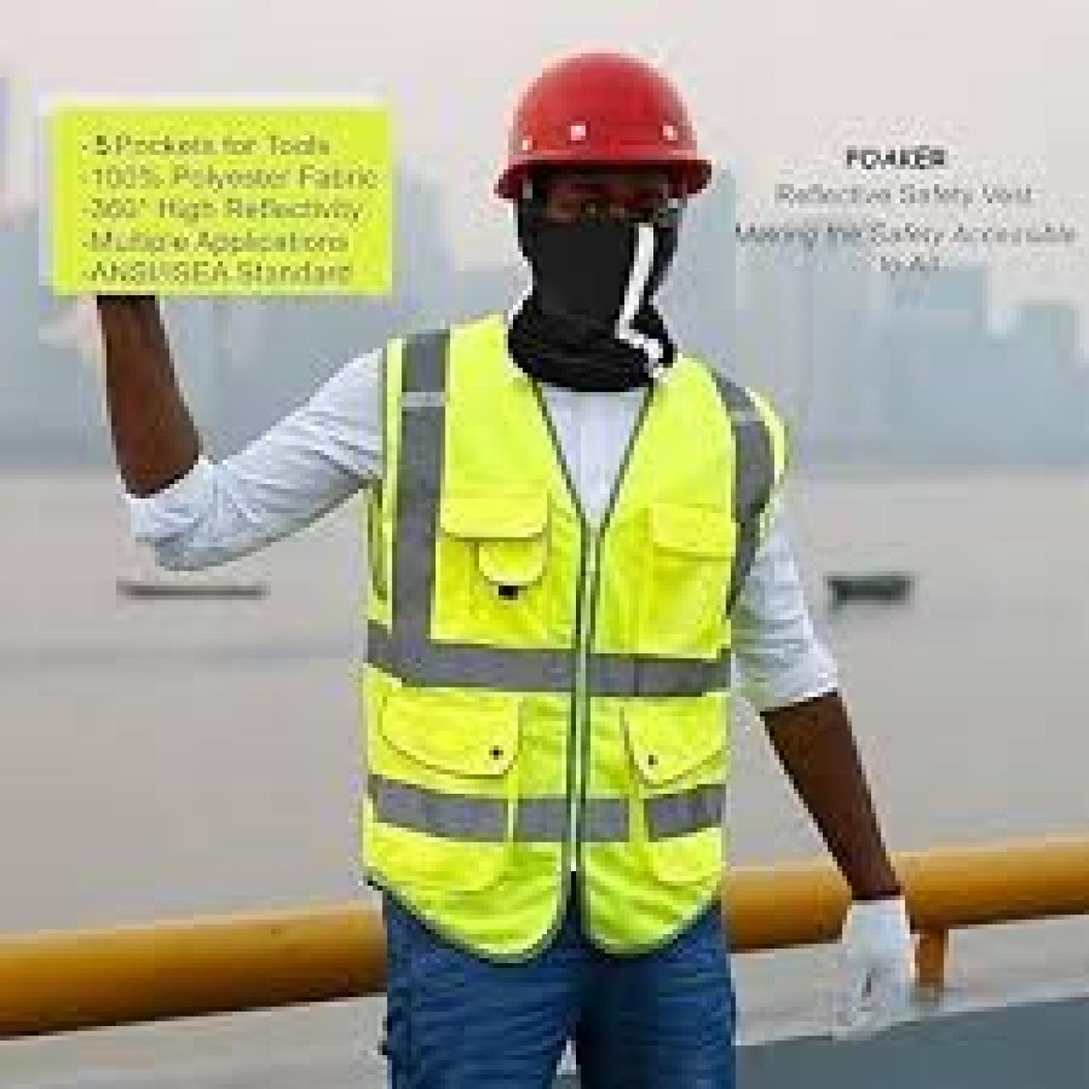Person: (77, 26, 911, 1089)
Safety_Vest: (353, 289, 804, 1006)
